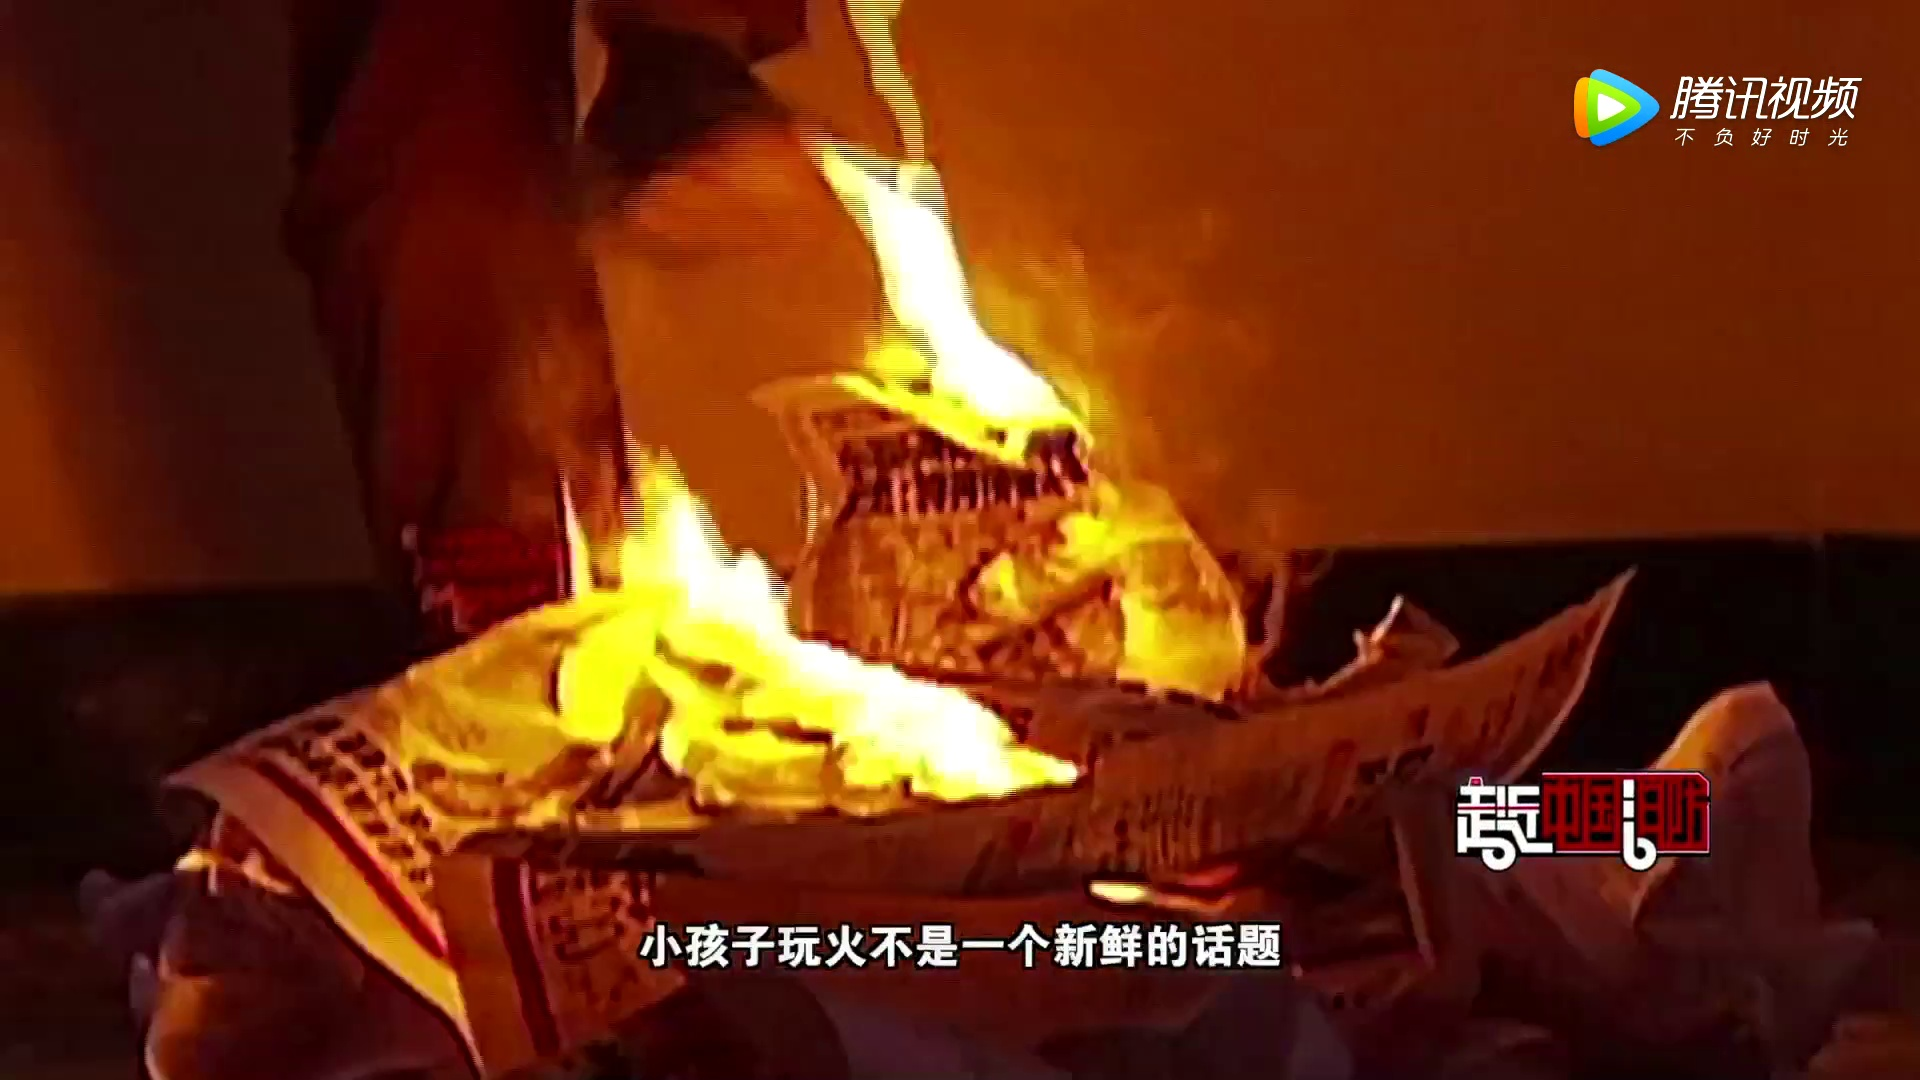fire: (585, 430, 1092, 811), (818, 113, 1100, 487)
